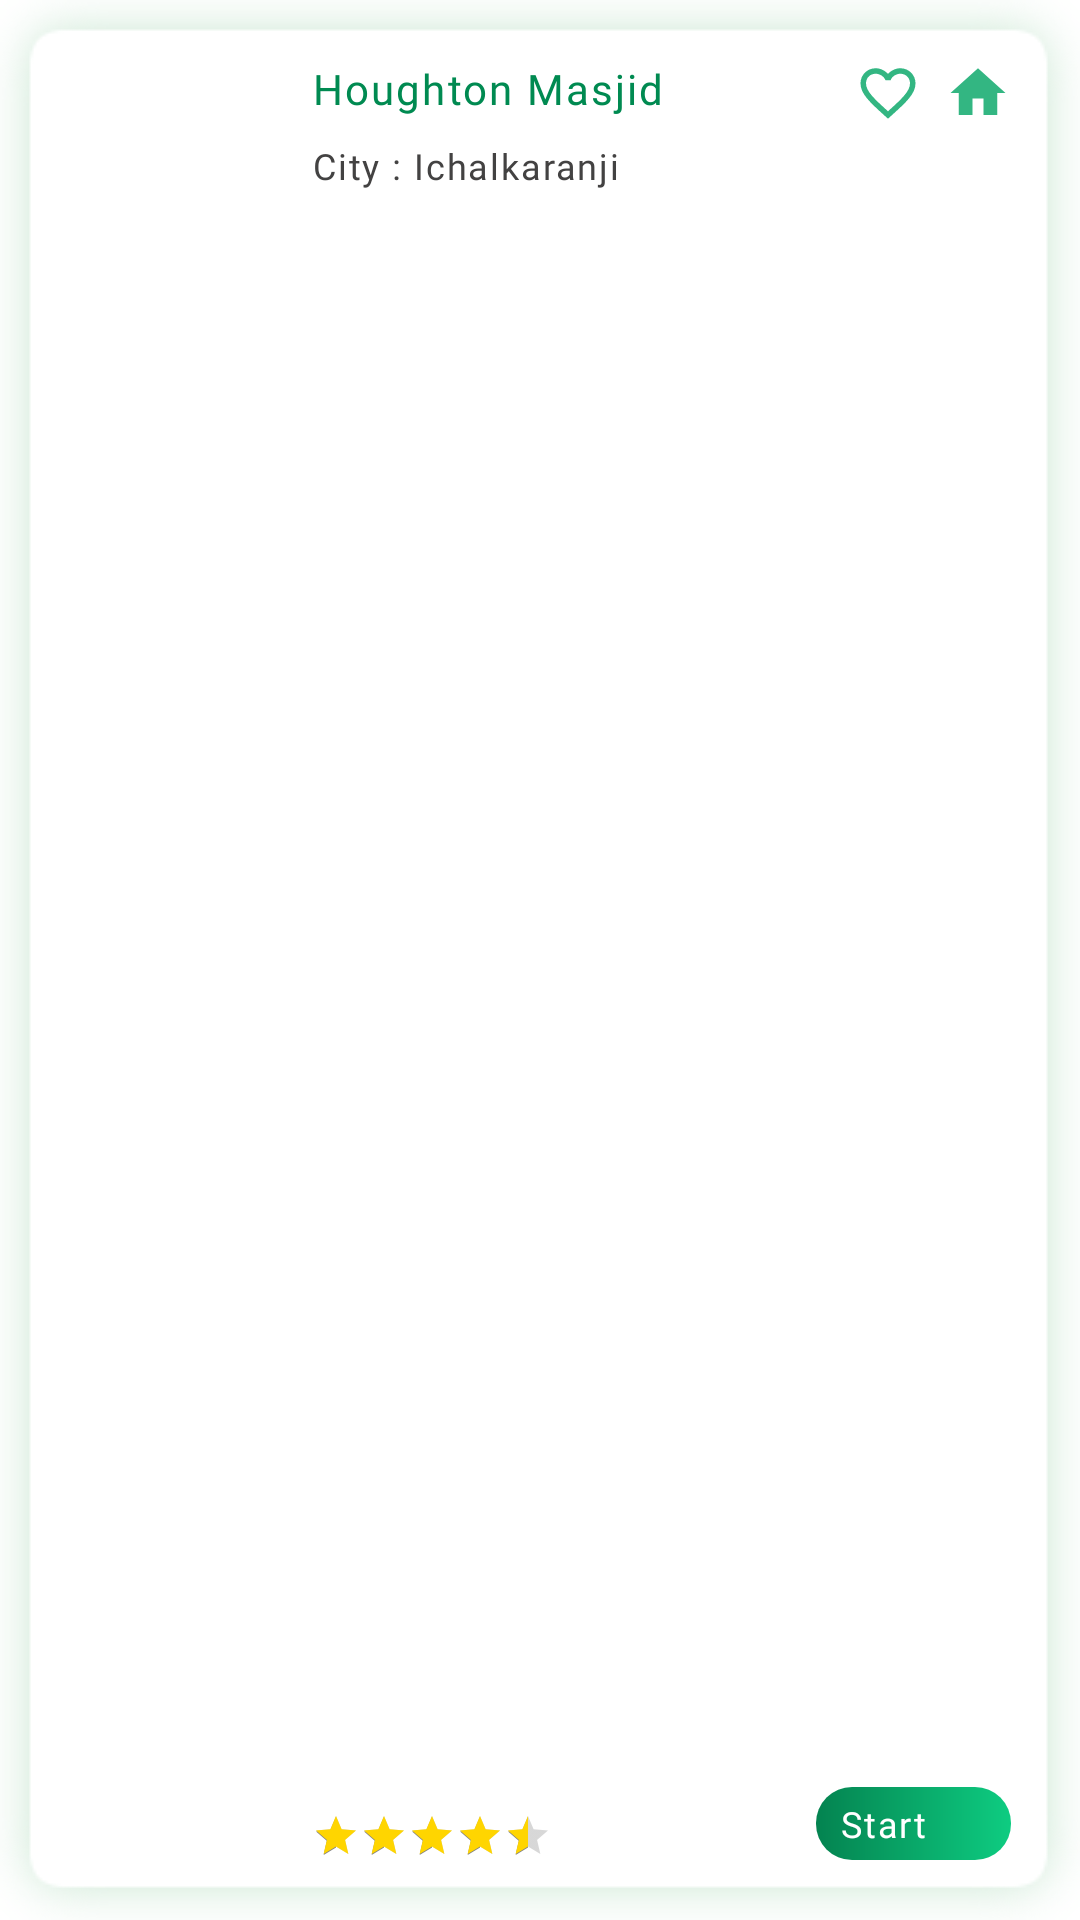

Icon click points for this 1080×1920 phone screenshot, format point (x, y):
favourite: point (888, 93)
home: point (978, 91)
